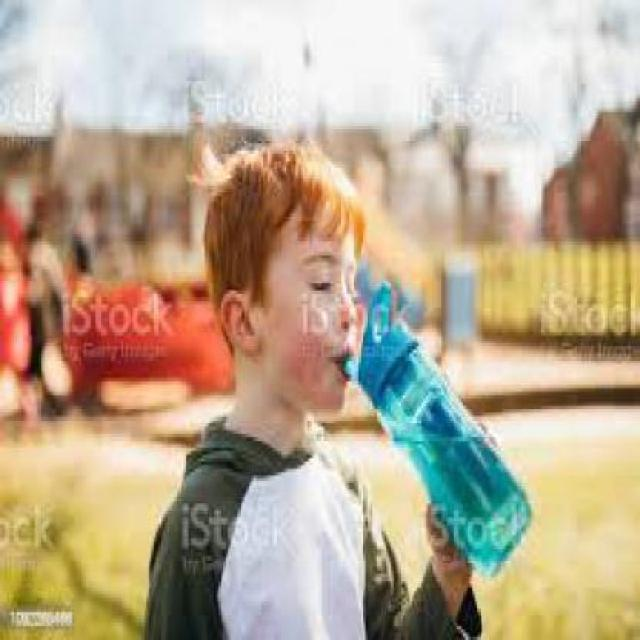Drinking: (332, 273, 540, 602)
